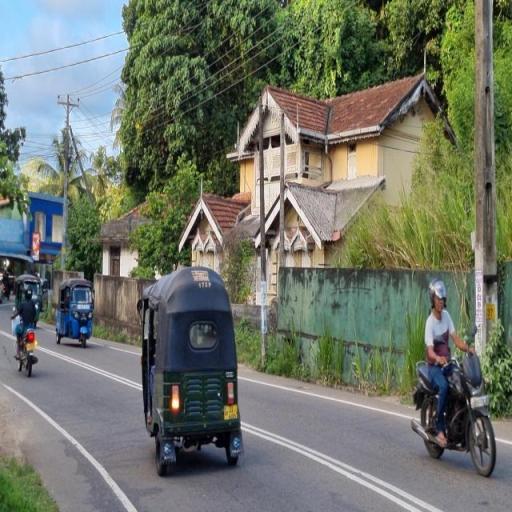double_white_line: (0, 382, 139, 512)
